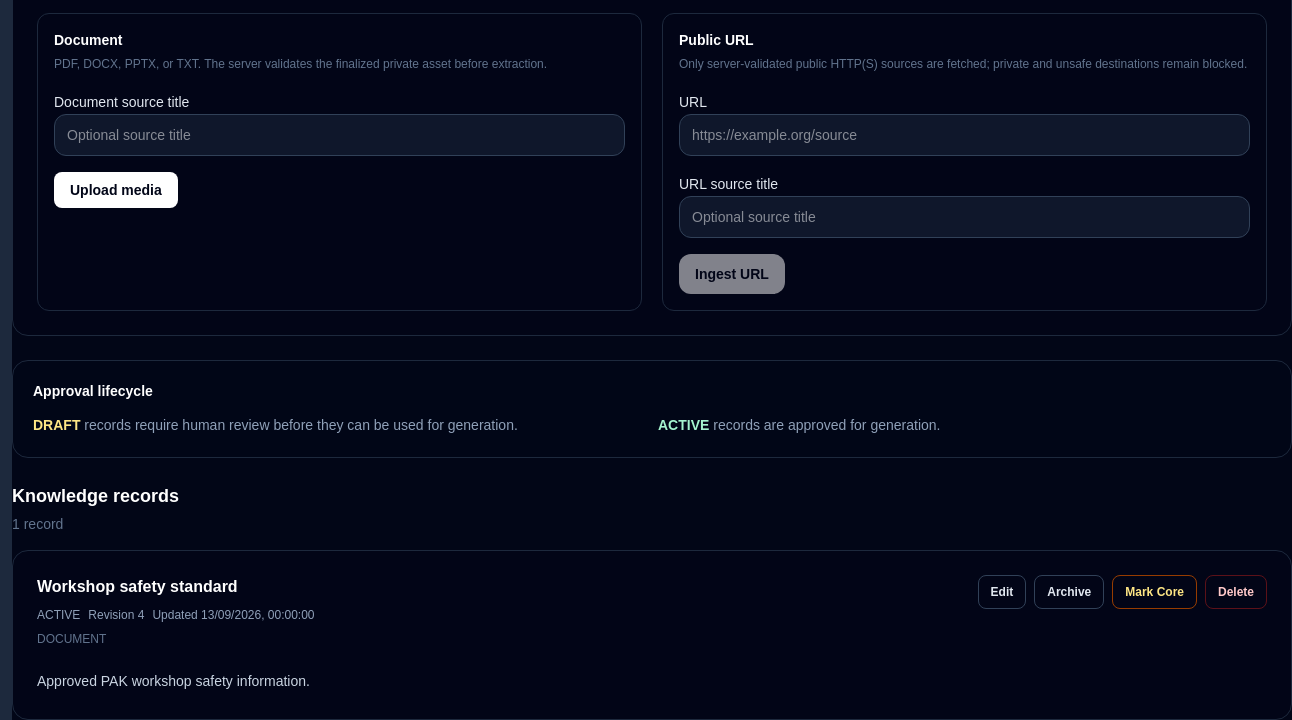
Scenario: KnowledgeBaseManager Core Knowledge controls › allows OWNER to mark a record as Core with CAS revision
(page scrolled)
What coordinates should you click on to do the following:
click the button with aria-label "Mark Workshop safety standard as Core"
I would click on:
 (1155, 592)
Its box is 1112,575 -> 1197,609.
(page scrolled)
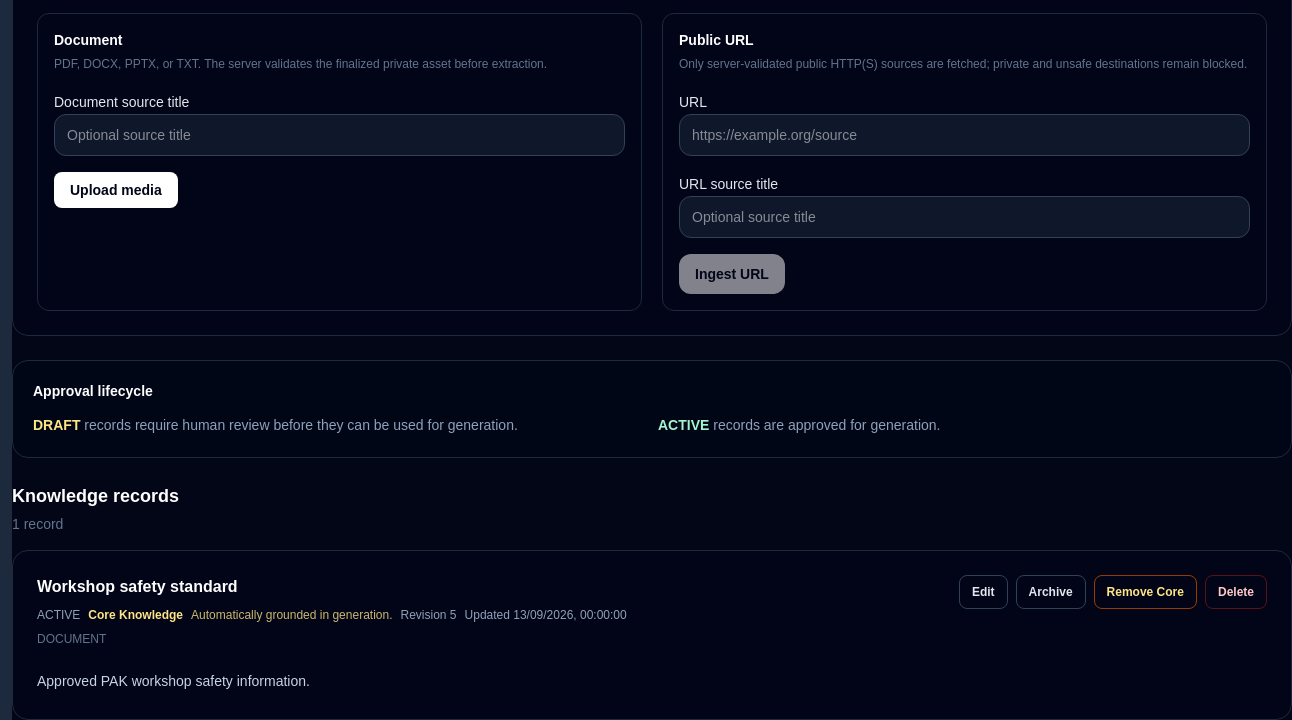
Check: the text "Core Knowledge" is shown, box 88,607 -> 183,623
